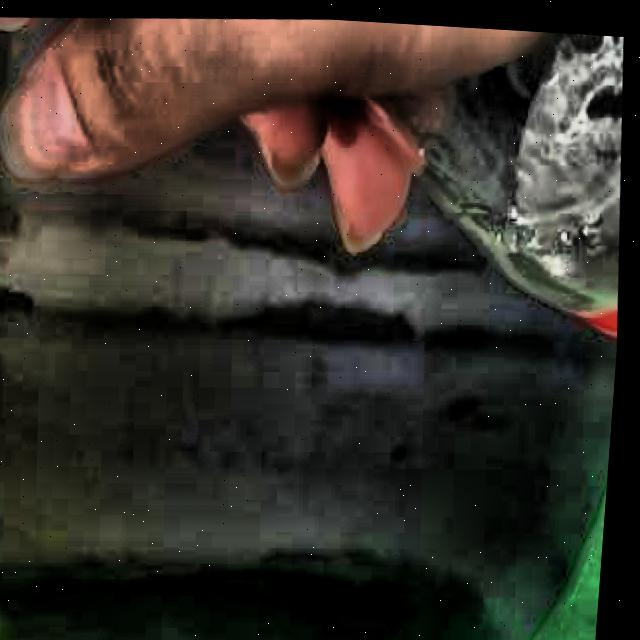glass: (389, 26, 624, 327)
